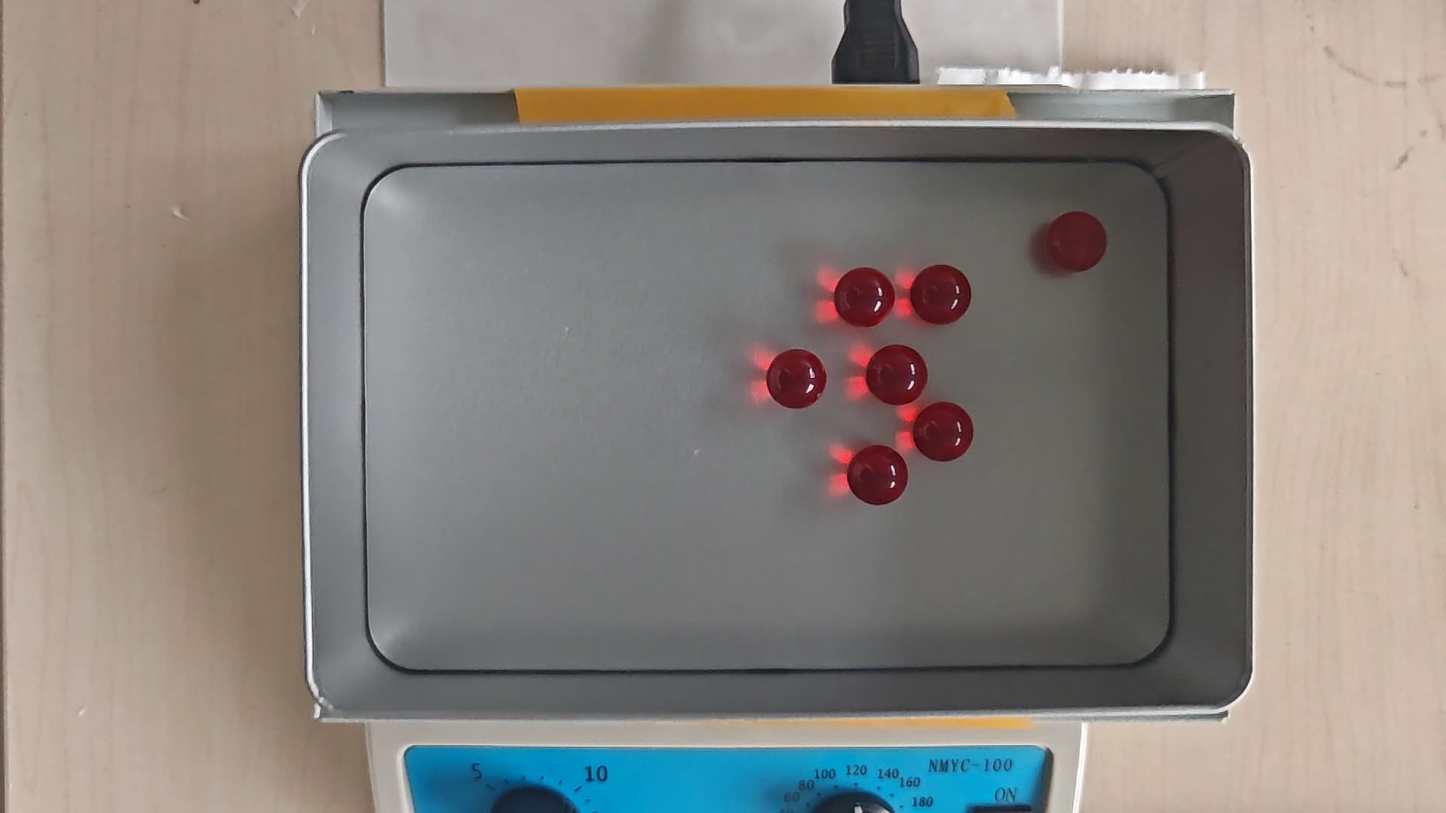ball: (764, 348, 828, 411), (847, 444, 910, 507), (864, 344, 927, 405), (834, 266, 895, 328), (909, 264, 971, 325), (913, 402, 975, 463), (1045, 212, 1108, 272)
container: (364, 160, 1173, 667)
